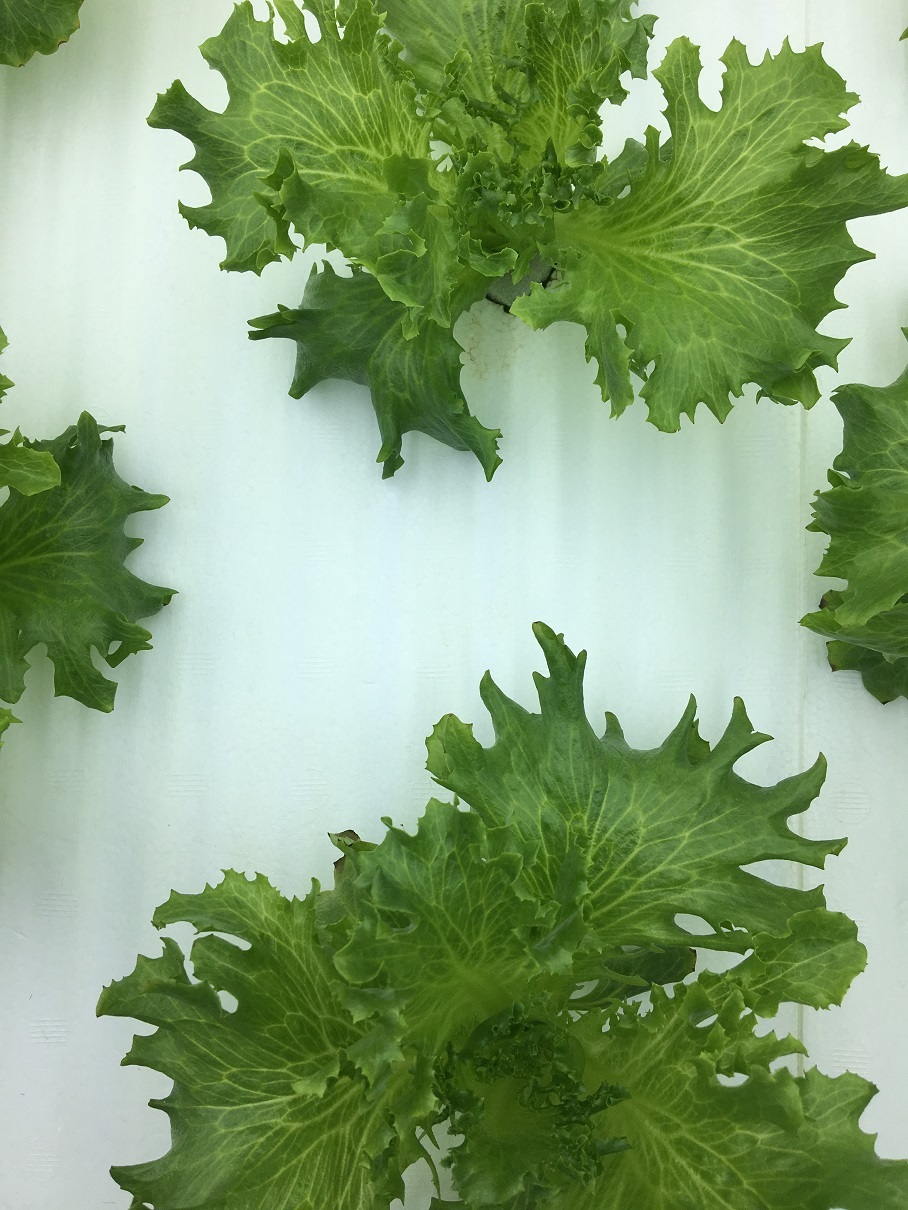tipburn: (321, 815, 353, 844), (813, 593, 831, 612), (57, 37, 75, 56), (328, 858, 346, 874), (821, 661, 840, 676), (17, 61, 31, 76), (877, 699, 891, 713)
